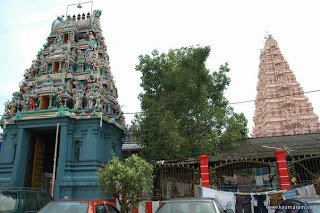Hindu Temple: (4, 3, 118, 191)
